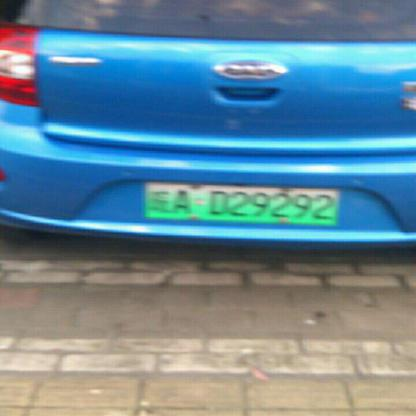lp: (144, 182, 336, 224)
